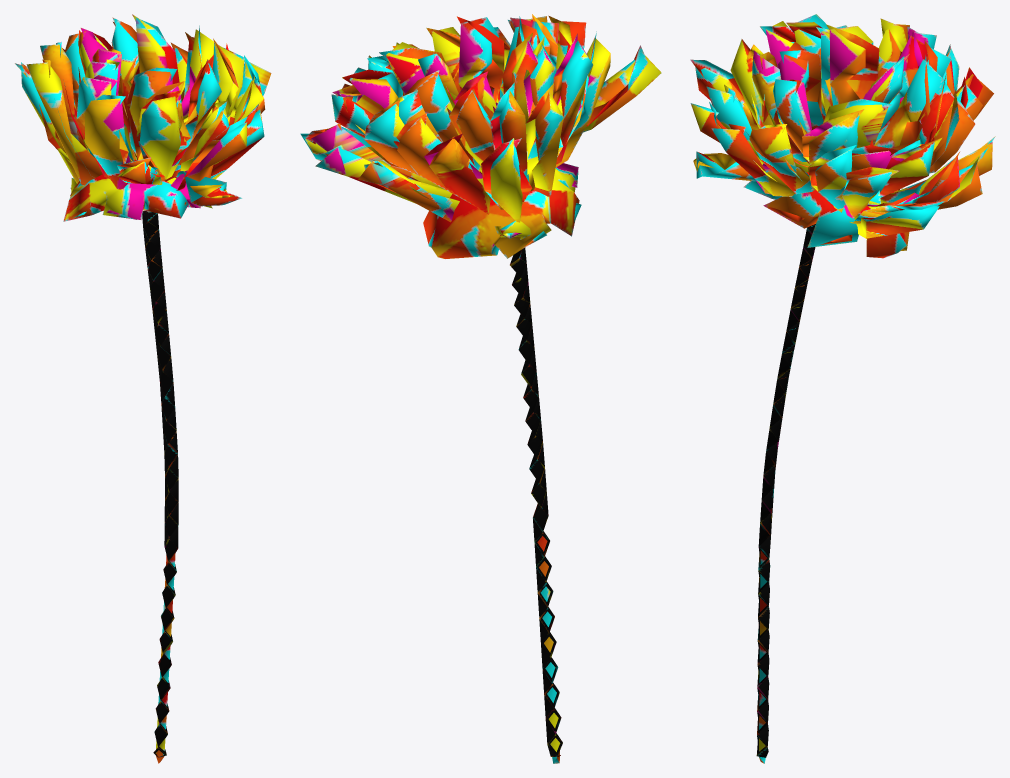
File: RoseProjectile.fbx
The picture shows the model from 3 angles, left to right: view 1: azimuth 30°, elevation 25°; view 2: azimuth 150°, elevation 25°; view 3: azimuth 270°, elevation 25°; orthographic projection. The views are drawn at different scales.
Parts seen in each view (by area): view 1: Projectile_RoseDecimated; view 2: Projectile_RoseDecimated; view 3: Projectile_RoseDecimated.
Boxes of the visible parts, bbox=[...] form: Projectile_RoseDecimated: bbox=[15, 14, 271, 763]; Projectile_RoseDecimated: bbox=[300, 14, 661, 763]; Projectile_RoseDecimated: bbox=[690, 14, 995, 763].
Bounding box in the file's own units: 11.25 × 32.64 × 12.32.
